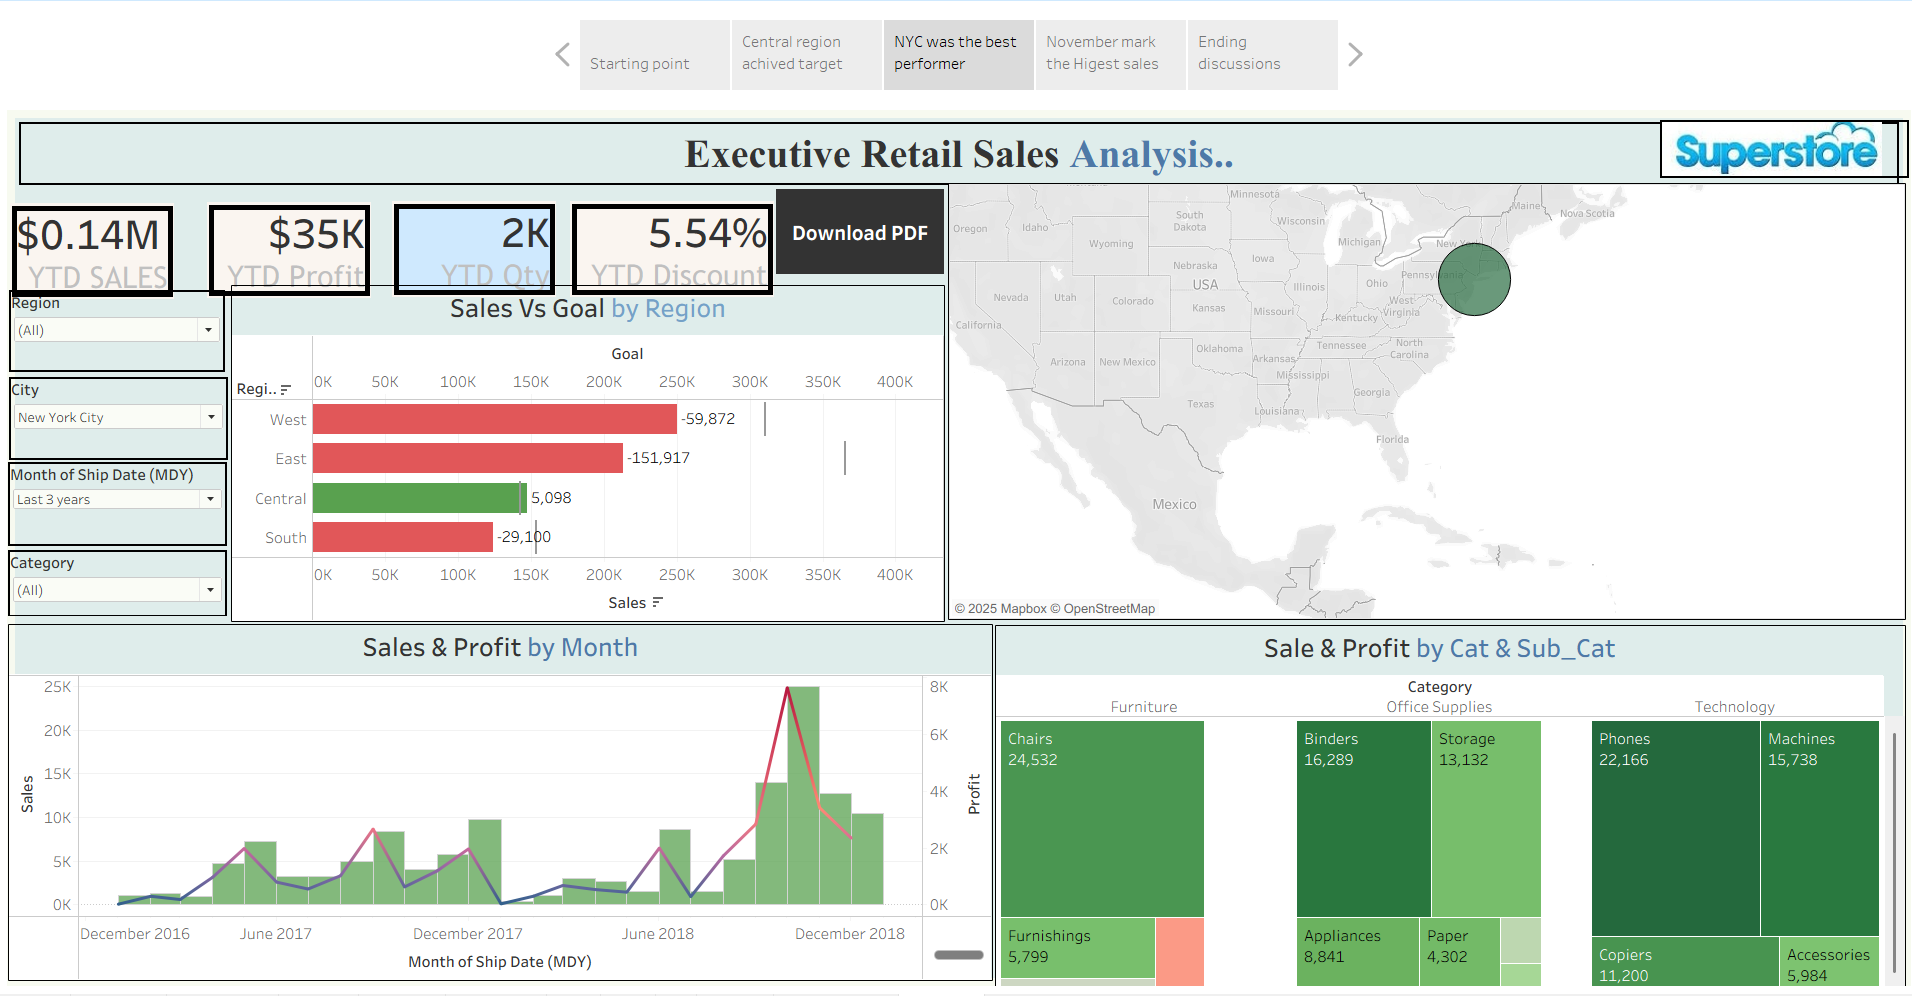

What the dashboard file says about the page in this screenshot:
{"tool":"tableau","page":{"name":"Dashboard 1","canvas":[1000,1000],"units":"permille","ordinal":0},"visuals":[{"type":"worksheet","title":"Qty","mark":"Automatic","box":[202.1,7.5,120.1,339.6]},{"type":"worksheet","title":"discount","mark":"Automatic","box":[295.8,7.5,118.9,283.4]},{"type":"worksheet","title":"Profit","mark":"Automatic","box":[104.9,8.7,121.3,226]},{"type":"worksheet","title":"Sales","mark":"Automatic","box":[1.8,10,107.8,229.7]},{"type":"title","box":[4.7,10,990.6,88.6]},{"type":"image","param":"Image/download.jpeg","box":[868.2,11.2,130.6,66.2]},{"type":"worksheet","title":"City wise","mark":"Automatic","box":[494.4,83.7,503.2,499.4]},{"type":"dashboard-object","box":[404.1,89.9,88.5,97.4]},{"type":"worksheet","title":"Sales Vs Goal","mark":"Automatic","rows":["Region"],"cols":["Sales","Goal"],"box":[117.8,199.8,374.9,384.5]},{"type":"filter","title":"Sales Vs Goal","param":"[federated.1a60av20npun2j1cgu62n0ei90px].[none:Region:nk]","box":[1.2,206,113.7,93.6]},{"type":"filter","title":"City wise","param":"[federated.1a60av20npun2j1cgu62n0ei90px].[none:City:nk]","box":[1.2,304.6,114.8,94.9]},{"type":"filter","title":"Time_series","param":"[federated.1a60av20npun2j1cgu62n0ei90px].[tmn:Ship Date (MDY):qk]","box":[0.6,402,114.8,96.1]},{"type":"filter","title":"Tree_map","param":"[federated.1a60av20npun2j1cgu62n0ei90px].[none:Category:nk]","box":[0.6,501.9,114.8,76.2]},{"type":"worksheet","title":"Time_series","mark":"Automatic","rows":["Sales","Profit"],"cols":["Ship Date (MDY)"],"box":[0.6,586.8,517.3,407]}]}

Visuals, with their boxes on the dashboard's canvas, which has no fixed pixel size, in thousandths of its width and height (x1, y1, x2, y2). These are canvas units, not pixel positions in the 1912x996 screenshot, which may show the page scaled, cropped or inside an application window:
"Qty" worksheet: 202,8,322,347
"discount" worksheet: 296,8,415,291
"Profit" worksheet: 105,9,226,235
"Sales" worksheet: 2,10,110,240
title: 5,10,995,99
image: 868,11,999,77
"City wise" worksheet: 494,84,998,583
dashboard-object: 404,90,493,187
"Sales Vs Goal" worksheet: 118,200,493,584
"Sales Vs Goal" filter: 1,206,115,300
"City wise" filter: 1,305,116,400
"Time_series" filter: 1,402,115,498
"Tree_map" filter: 1,502,115,578
"Time_series" worksheet: 1,587,518,994
